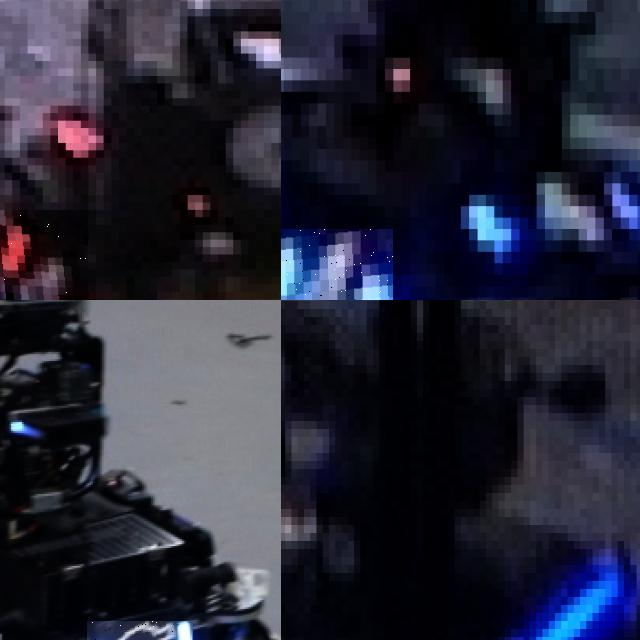B4: (281, 229, 393, 300)
Bs: (87, 621, 192, 640)
R4: (0, 209, 88, 300)
